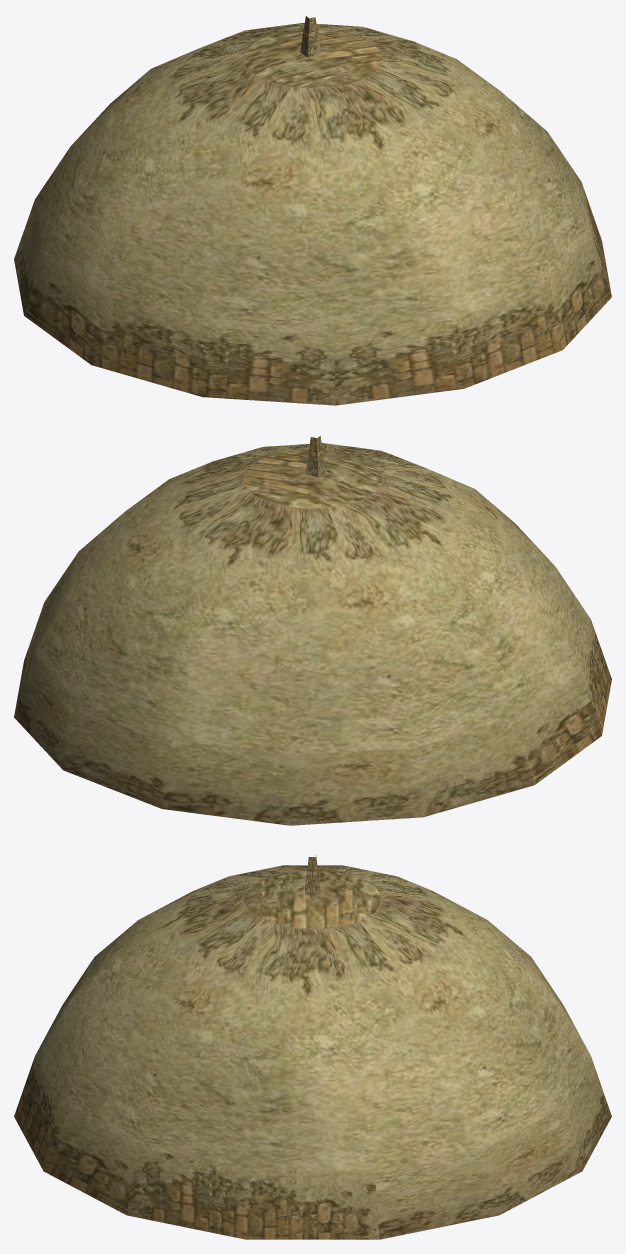
File: M7Z2_StuccoBuilding_Dome.glb
3 views of the same model, one above another, from view 1: azimuth 30°, elevation 25°; view 2: azimuth 150°, elevation 25°; view 3: azimuth 270°, elevation 25° (orthographic).
Visible parts, largest first — view 1: M7Z2_STUCCOBUILDING_DOME; view 2: M7Z2_STUCCOBUILDING_DOME; view 3: M7Z2_STUCCOBUILDING_DOME.
Part boxes in pixels (left/top/right/bottom): M7Z2_STUCCOBUILDING_DOME: left=14, top=16, right=611, bottom=405; M7Z2_STUCCOBUILDING_DOME: left=14, top=436, right=611, bottom=825; M7Z2_STUCCOBUILDING_DOME: left=14, top=855, right=611, bottom=1239.
Size of the model in its own units: 9.5 by 4.67 by 9.74.
2 materials, 2 textured.
